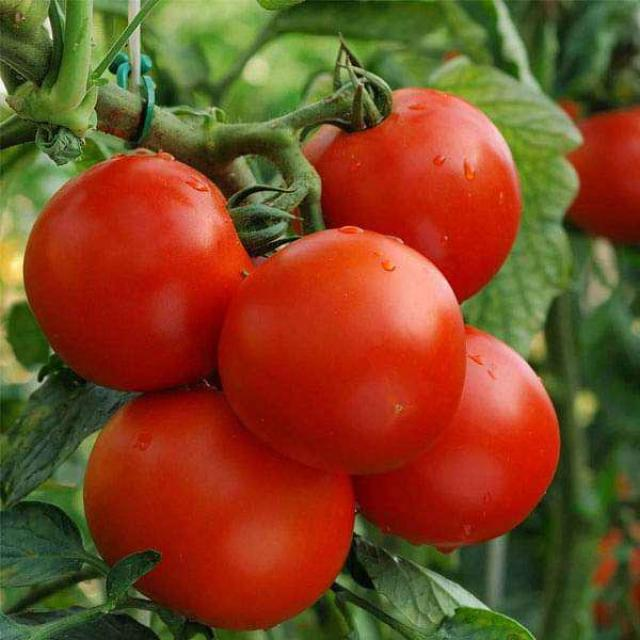Tomato: (231, 233, 465, 471), (85, 398, 338, 618), (24, 150, 248, 378), (324, 82, 525, 294)
